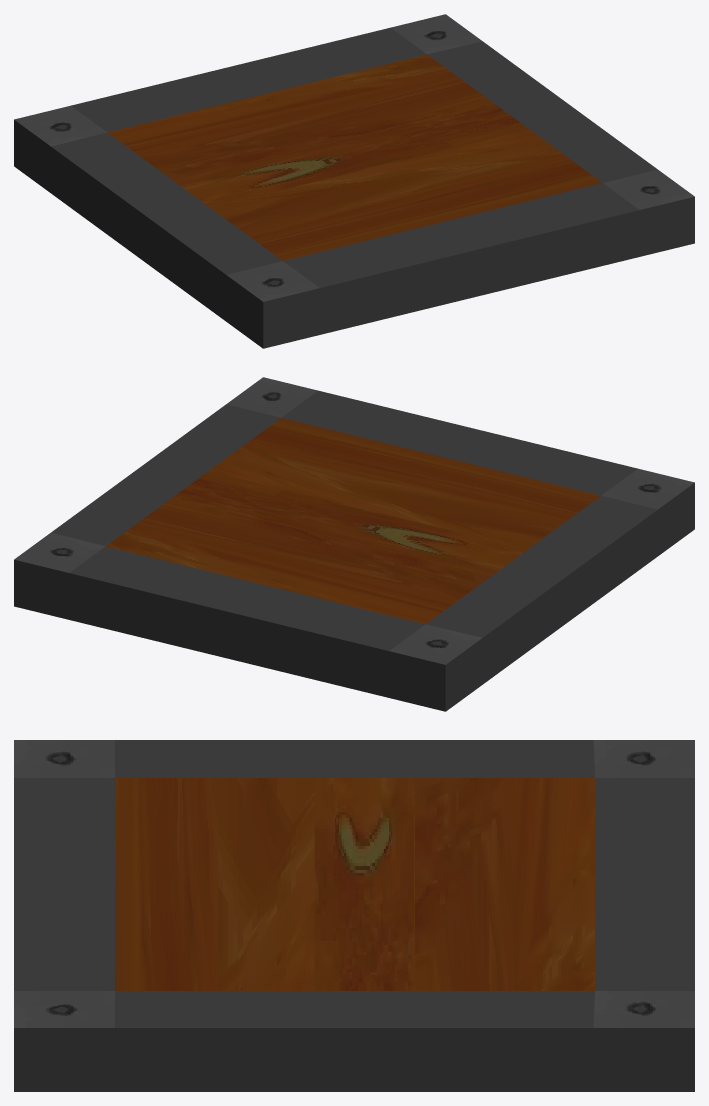
File: TrapdoorClosed.glb
3 renders of one model, top to bottom at view 1: azimuth 30°, elevation 25°; view 2: azimuth 150°, elevation 25°; view 3: azimuth 270°, elevation 25°, orthographic. The views are drawn at different scales.
Visible parts, largest first — view 1: Cube; view 2: Cube; view 3: Cube.
Part boxes in pixels (bbox=[...]): Cube: bbox=[14, 14, 694, 348]; Cube: bbox=[14, 377, 694, 711]; Cube: bbox=[14, 740, 694, 1091].
Bounding box in the file's own units: 0.8681 × 0.09 × 0.8681.
4 materials, 4 textured.
